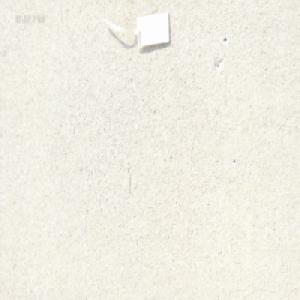LuggageTag: (100, 11, 171, 55)
